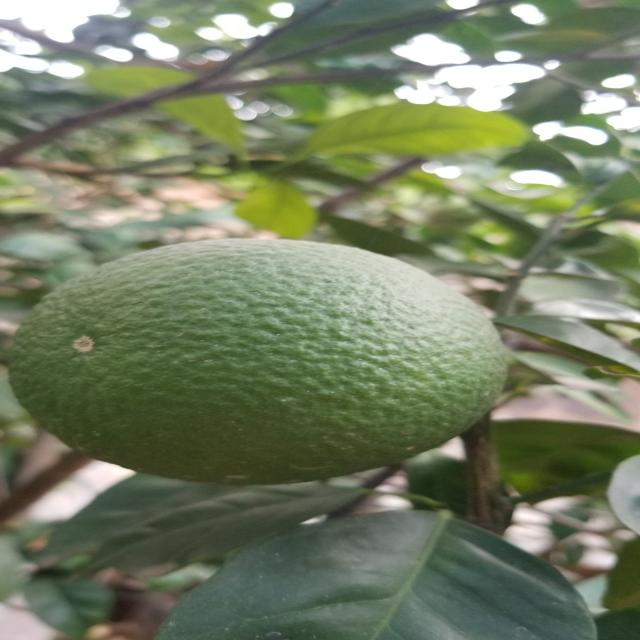Unripe: (20, 238, 516, 486)
